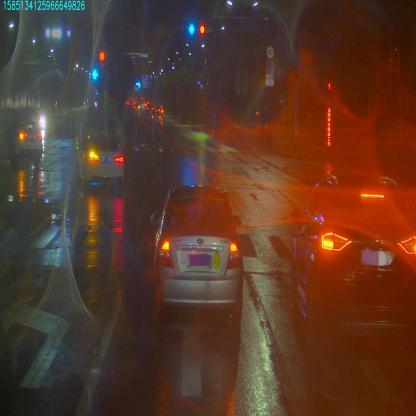traffic-light: (189, 23, 195, 35), (200, 23, 204, 36)
